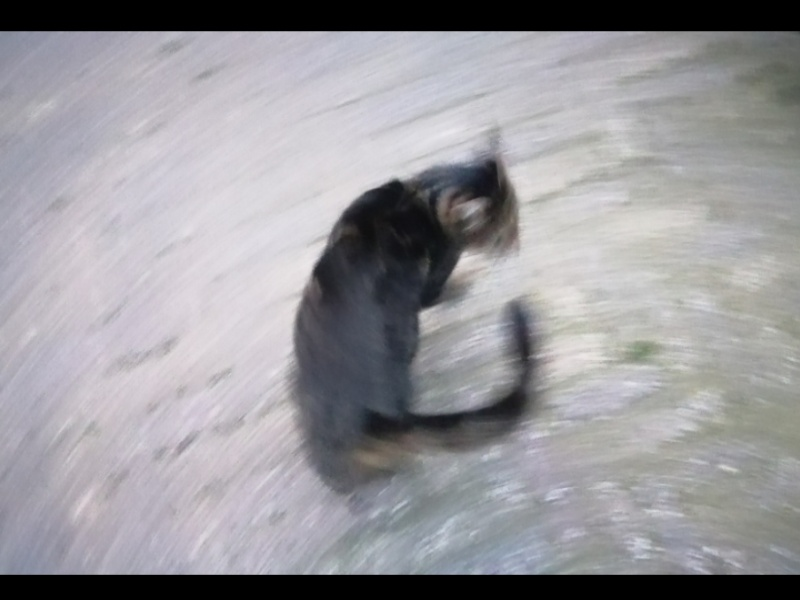cat: (287, 127, 543, 509)
